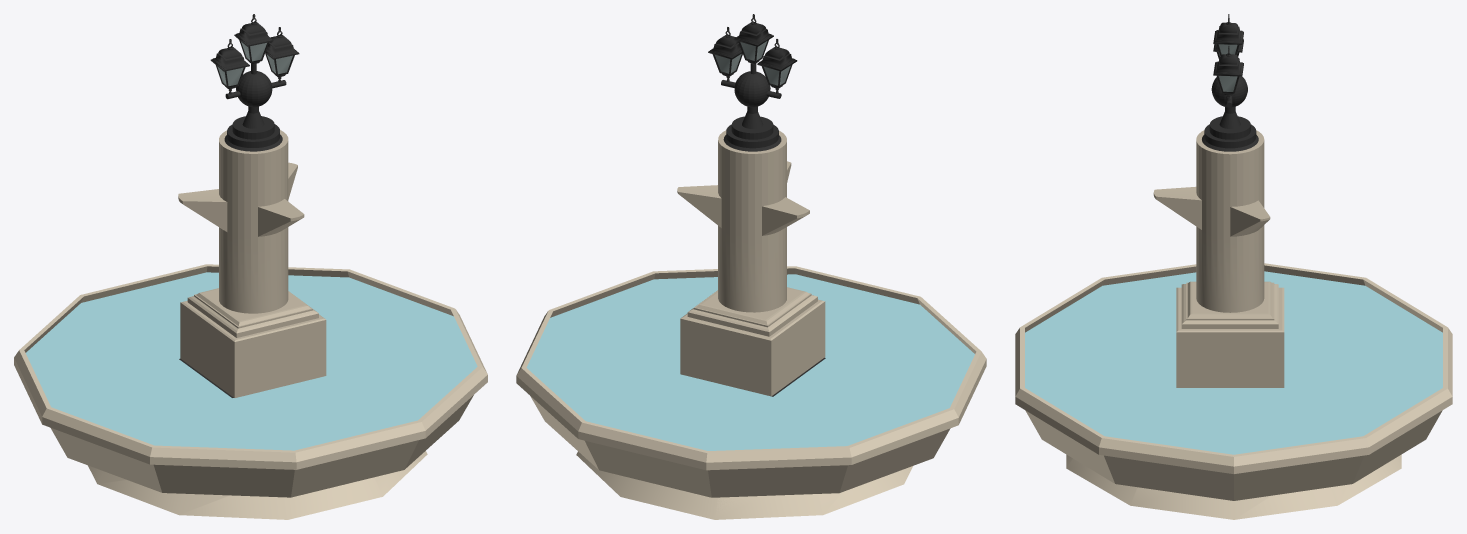
File: KW_fountain.fbx
3 views of the same model, side by side, from view 1: azimuth 30°, elevation 25°; view 2: azimuth 150°, elevation 25°; view 3: azimuth 270°, elevation 25° (orthographic).
Visible parts, largest first — view 1: polySurface14, polySurface20, polySurface12, polySurface13, polySurface5, polySurface8, polySurface1, polySurface16; view 2: polySurface14, polySurface20, polySurface12, polySurface13, polySurface5, polySurface8, polySurface1, polySurface16; view 3: polySurface14, polySurface20, polySurface12, polySurface13, polySurface16, polySurface8, polySurface5.
Part boxes in pixels (x1=…): polySurface14: x1=14, y1=264, x2=487, y2=519; polySurface20: x1=17, y1=15, x2=476, y2=462; polySurface12: x1=178, y1=106, x2=304, y2=313; polySurface13: x1=180, y1=288, x2=326, y2=392; polySurface5: x1=236, y1=71, x2=272, y2=107; polySurface8: x1=234, y1=22, x2=273, y2=64; polySurface1: x1=210, y1=47, x2=249, y2=89; polySurface16: x1=265, y1=35, x2=299, y2=77; polySurface14: x1=516, y1=266, x2=986, y2=519; polySurface20: x1=528, y1=18, x2=976, y2=519; polySurface12: x1=677, y1=106, x2=809, y2=312; polySurface13: x1=680, y1=287, x2=825, y2=381; polySurface5: x1=734, y1=71, x2=770, y2=107; polySurface8: x1=733, y1=22, x2=773, y2=64; polySurface1: x1=757, y1=47, x2=797, y2=88; polySurface16: x1=708, y1=35, x2=742, y2=76; polySurface14: x1=1015, y1=263, x2=1452, y2=519; polySurface20: x1=1025, y1=14, x2=1442, y2=479; polySurface12: x1=1153, y1=107, x2=1270, y2=312; polySurface13: x1=1176, y1=281, x2=1284, y2=387; polySurface16: x1=1213, y1=54, x2=1243, y2=95; polySurface8: x1=1213, y1=22, x2=1243, y2=56; polySurface5: x1=1211, y1=76, x2=1247, y2=107.
Bounding box in the file's own units: 26.39 × 26.21 × 24.08.
